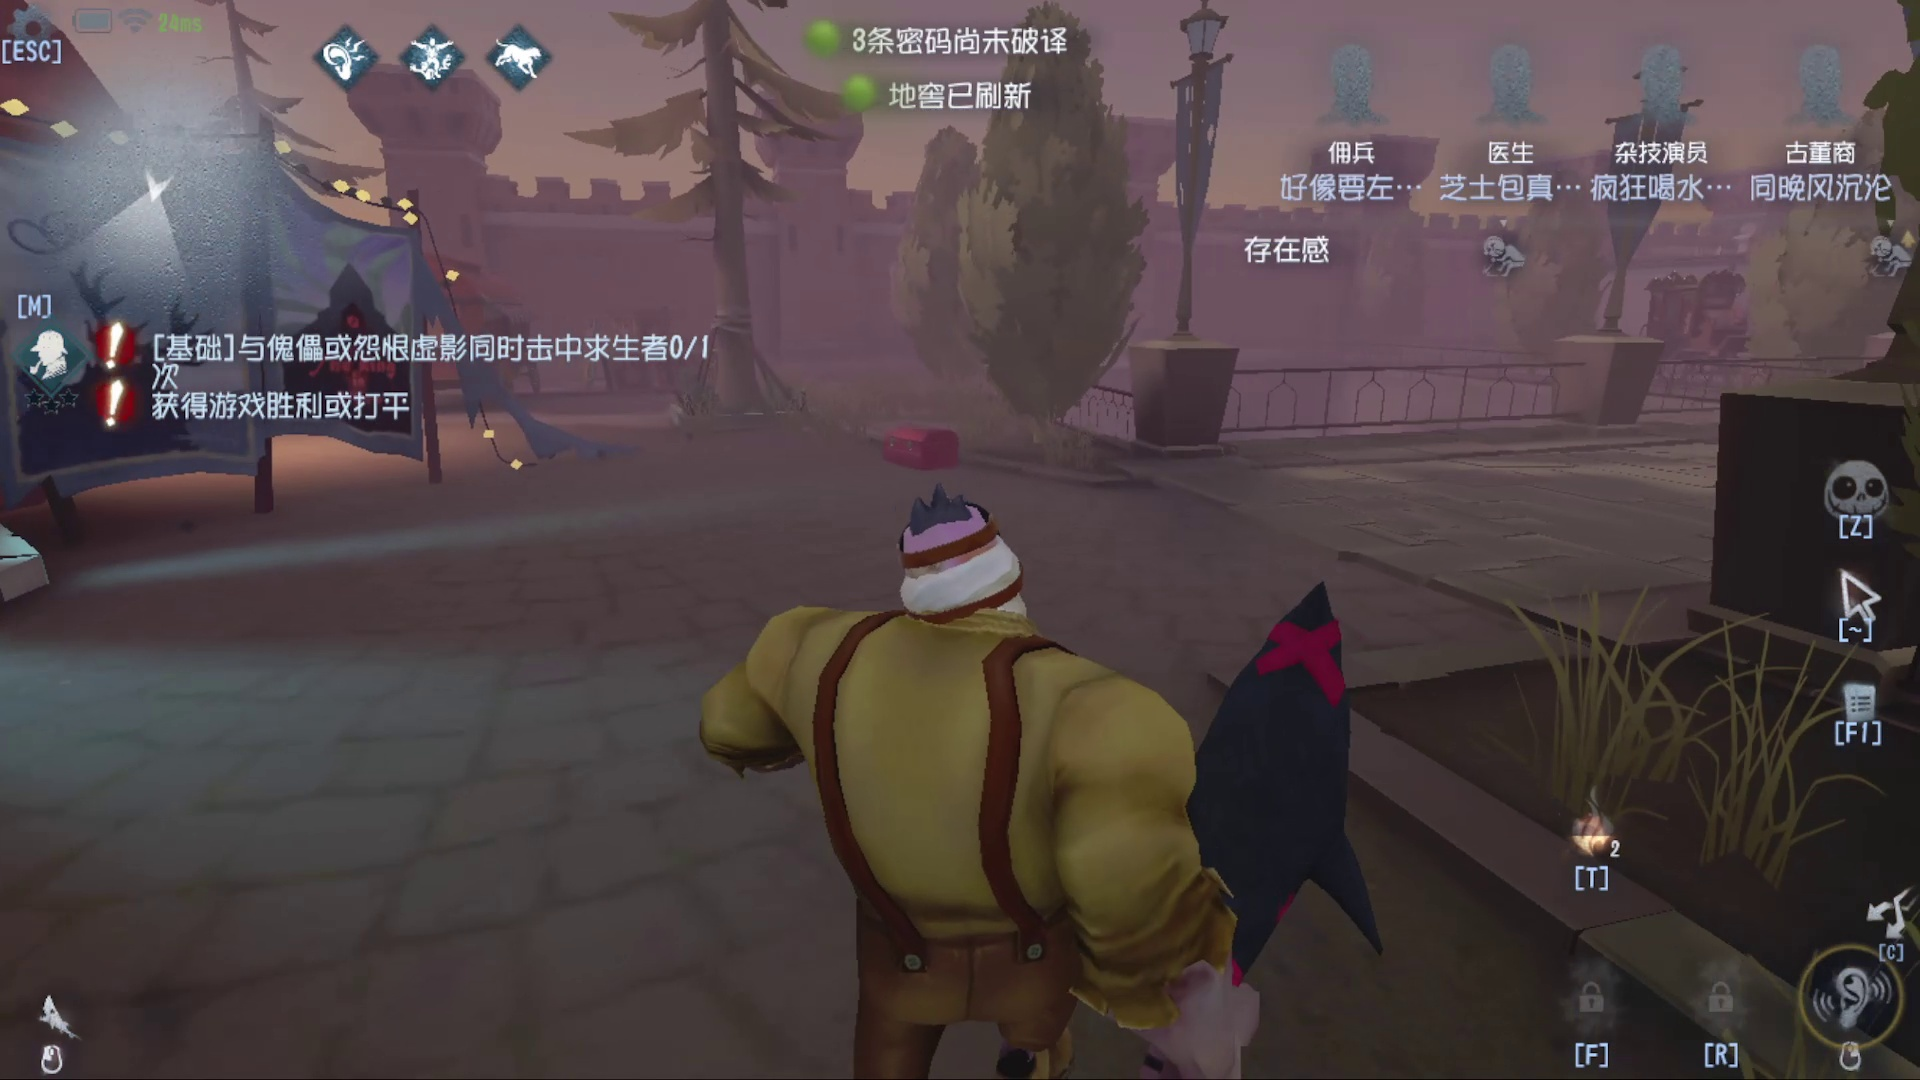木板: (576, 320, 605, 404)
